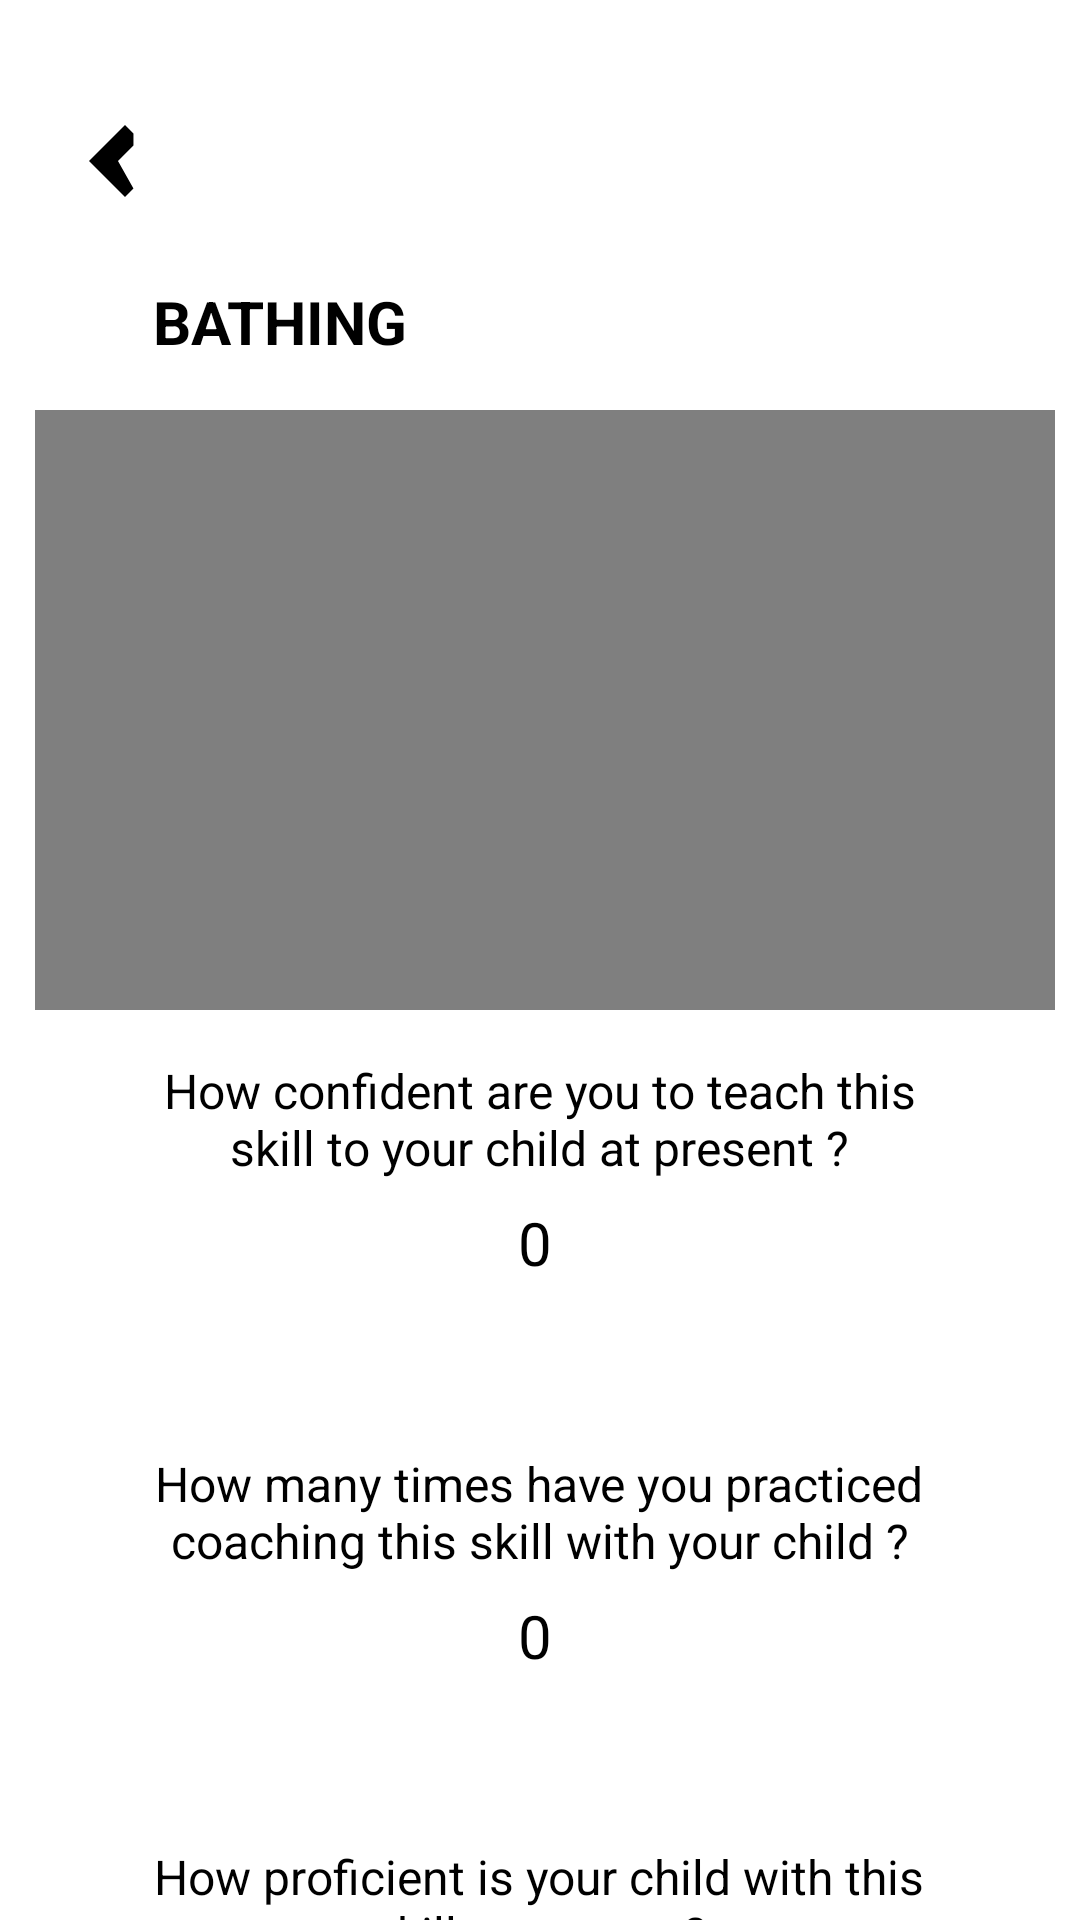

Icon click points for this 1080 × 1920 phone screenshot, format (x,y):
back: (111,161)
